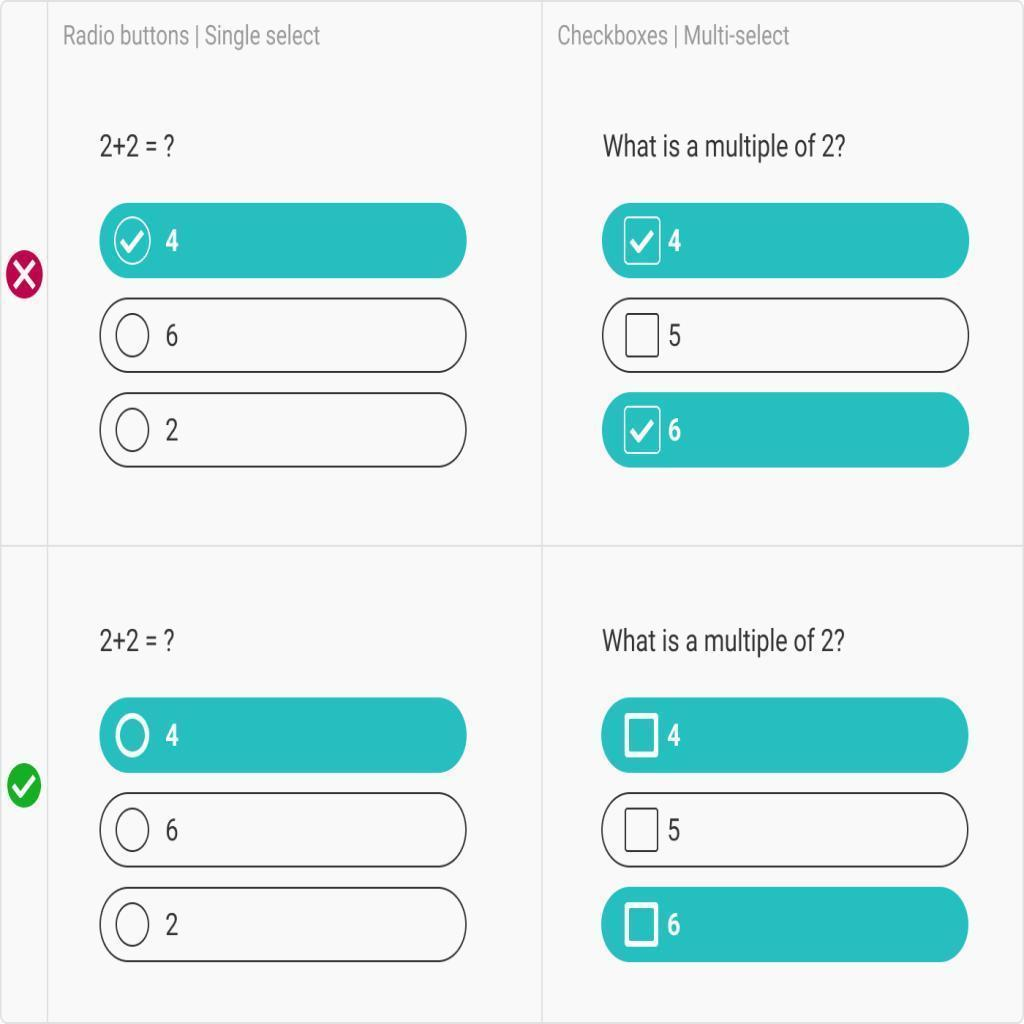checkbox: (623, 214, 663, 267), (625, 404, 661, 453), (624, 312, 660, 358), (624, 903, 658, 946), (625, 713, 658, 756), (625, 808, 658, 851)
radio: (114, 213, 153, 266), (113, 806, 150, 854), (114, 312, 151, 359), (115, 406, 151, 453), (115, 900, 148, 949), (116, 715, 149, 758)
